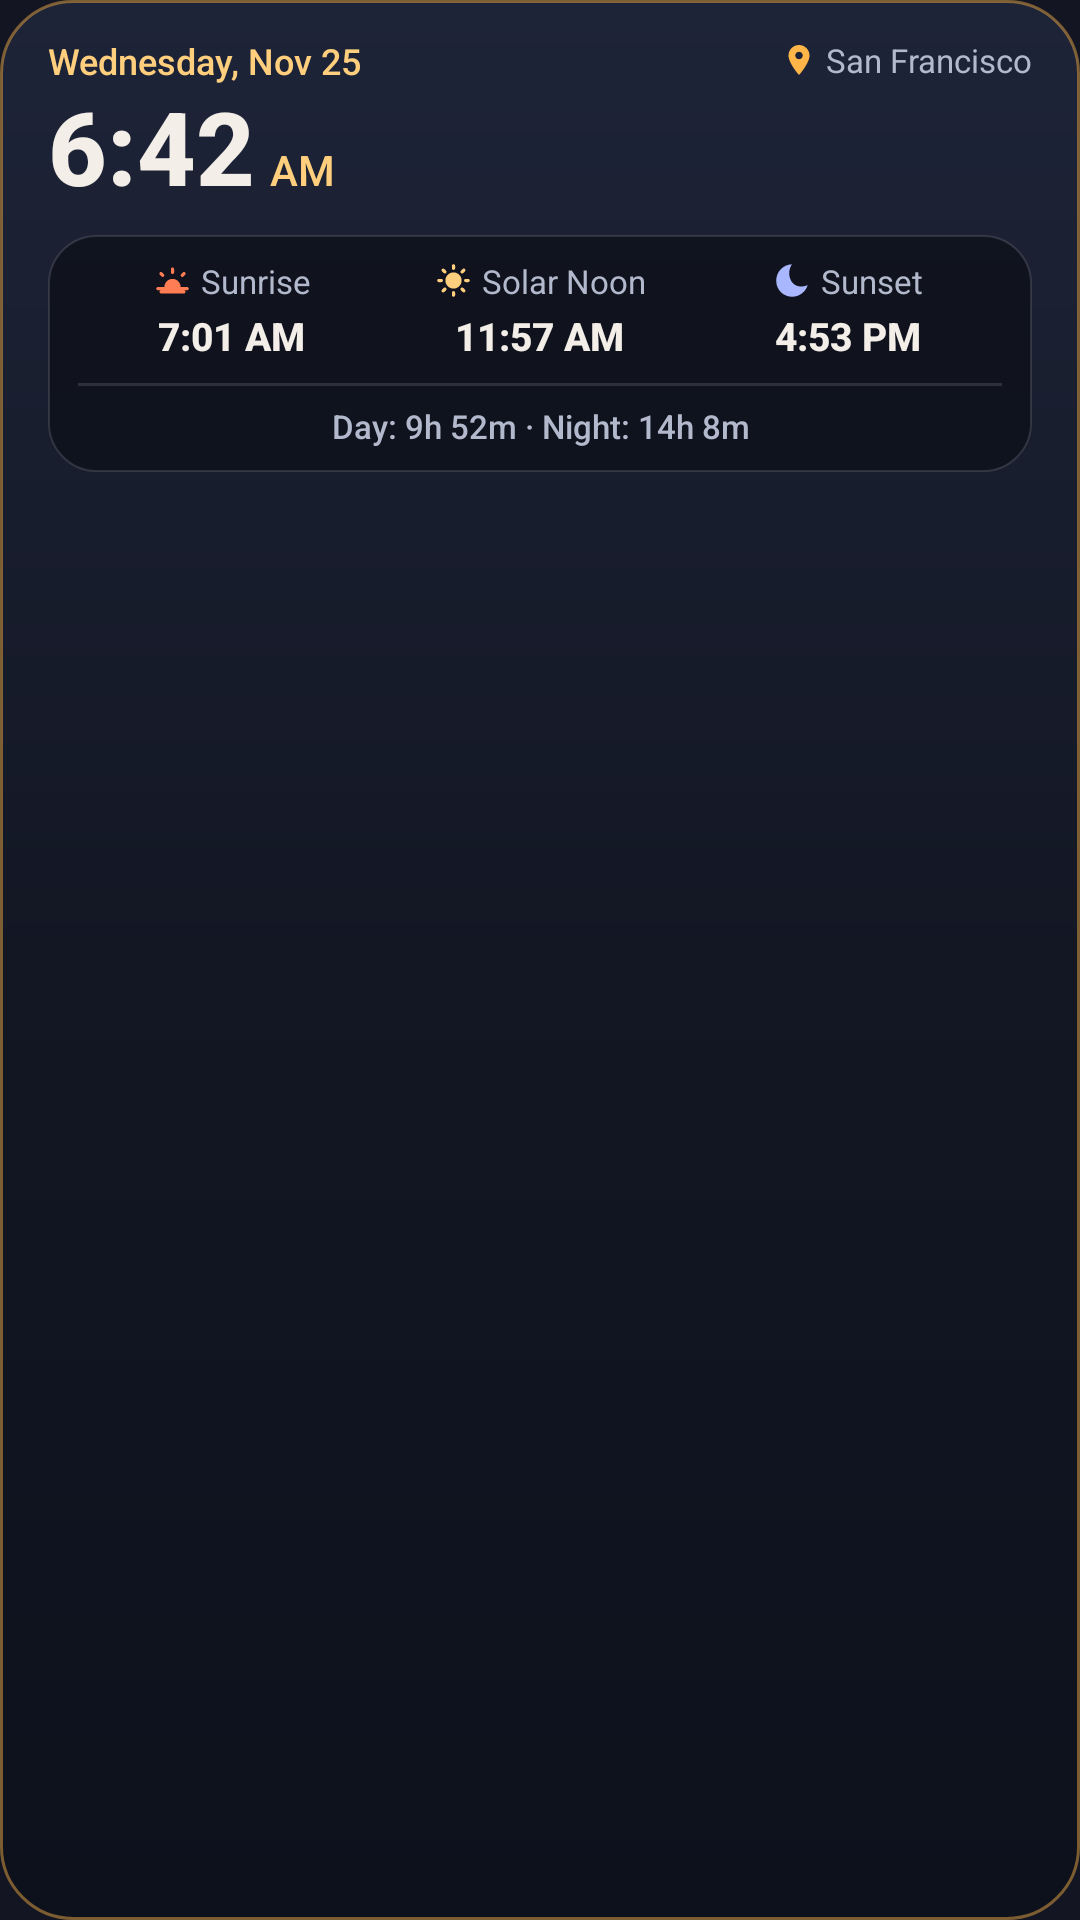

Point at icon controls on the screen. Image size 1080px×1920px, points as (x,y).
widget location: (799,60)
